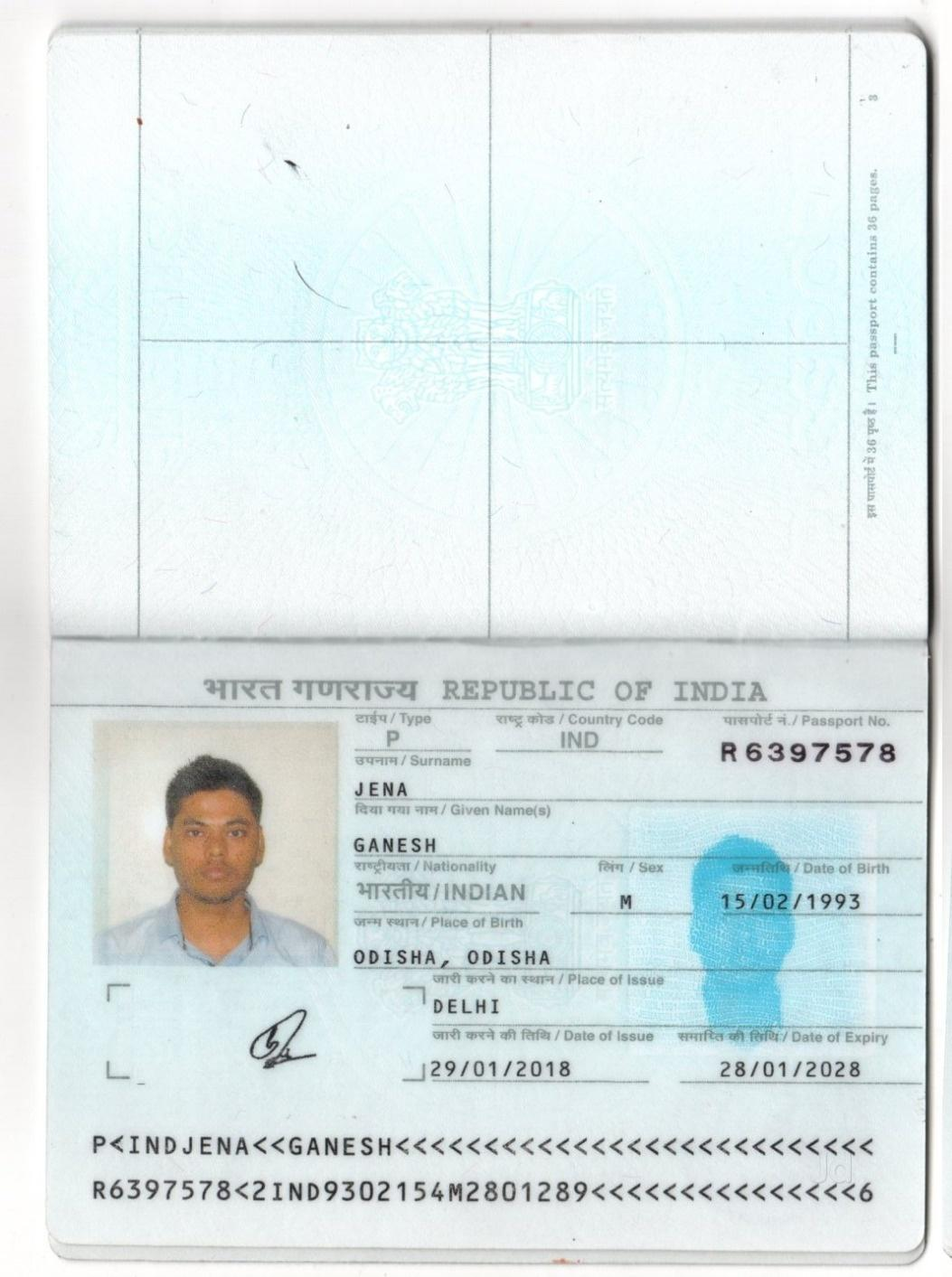DOB: (714, 880, 881, 924)
Surname: (346, 775, 424, 801)
country_code: (551, 725, 617, 754)
date_of_expiry: (711, 1049, 871, 1095)
date_of_issue: (422, 1051, 582, 1085)
details: (72, 1112, 890, 1232)
name: (348, 824, 460, 855)
nationality: (351, 873, 537, 909)
passport_no: (712, 730, 904, 772)
photo: (94, 713, 338, 973)
place_of_birth: (350, 937, 566, 973)
place_of_issue: (424, 987, 526, 1025)
sex: (607, 883, 648, 932)
sign: (212, 993, 358, 1079)
type: (377, 723, 407, 756)
